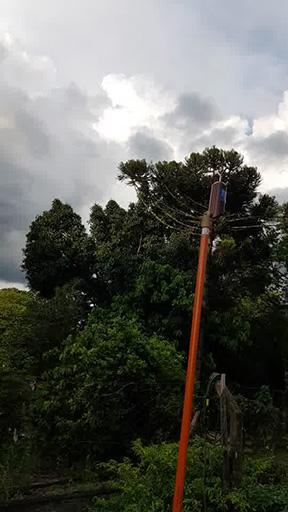Detector_Tensao_Contato: (207, 169, 226, 220)
Vara_Manobra: (174, 218, 212, 512)
